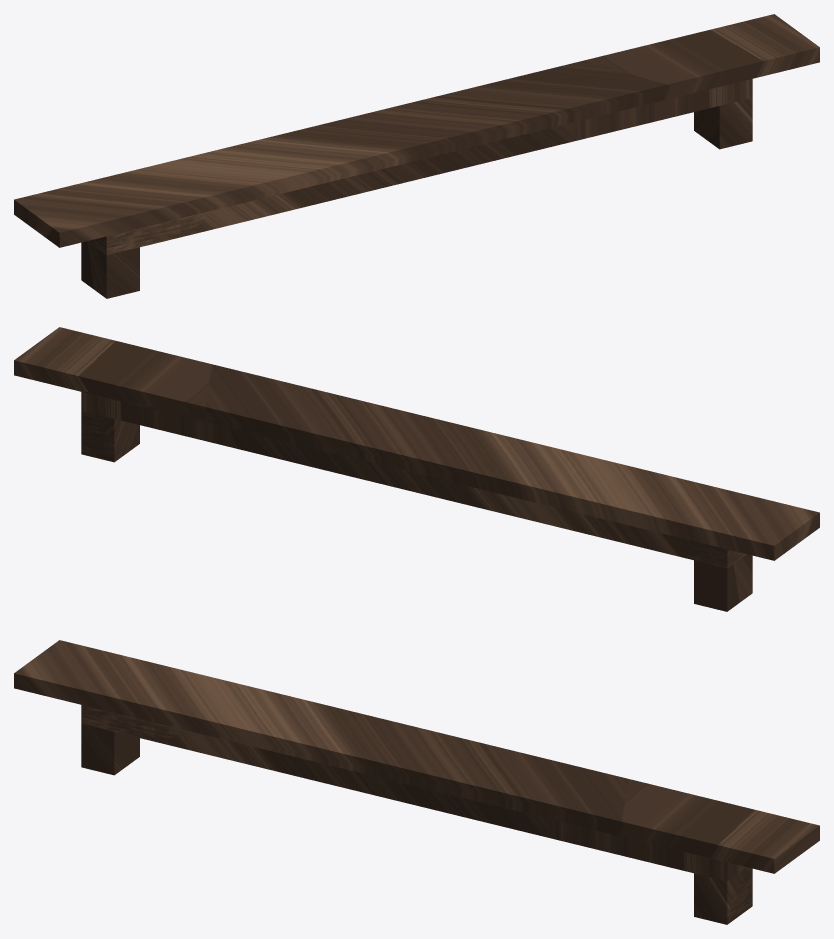
File: bench_diningroom.fbx
3 renders of one model, top to bottom at view 1: azimuth 30°, elevation 25°; view 2: azimuth 150°, elevation 25°; view 3: azimuth 330°, elevation 25°, orthographic.
Visible parts, largest first — view 1: long_chair; view 2: long_chair; view 3: long_chair.
Part boxes in pixels (x1,y1,x2,y2): long_chair: [14, 14, 819, 298]; long_chair: [14, 327, 819, 611]; long_chair: [14, 640, 819, 924].
Size of the model in its own units: 800 by 87.84 by 82.98.
